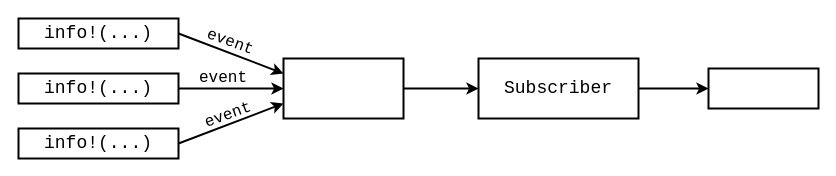
This 836x176 diagram has some shape labels left out. The box of each missing label's shape, as (x1, y1, x2, y2) in pixels:
Console: (707, 67, 819, 109)
global dispatcher: (282, 57, 404, 119)
